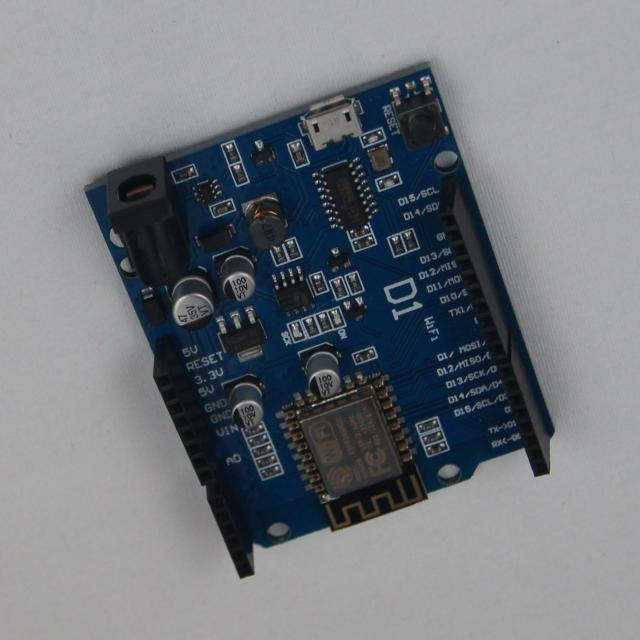Arduino Uno WiFi Shield: (86, 64, 554, 578)
